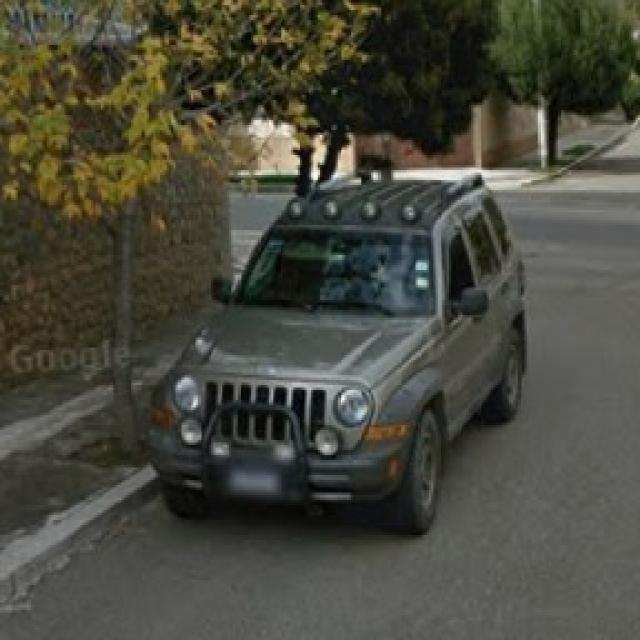Car: (141, 166, 532, 542)
